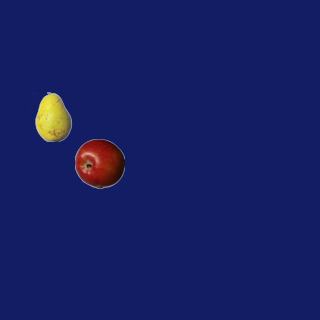Apple Braeburn: (74, 138, 124, 188)
Pear Monster: (28, 91, 78, 141)
